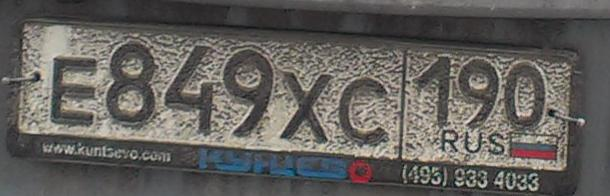license-plateSW: (21, 22, 574, 174)
